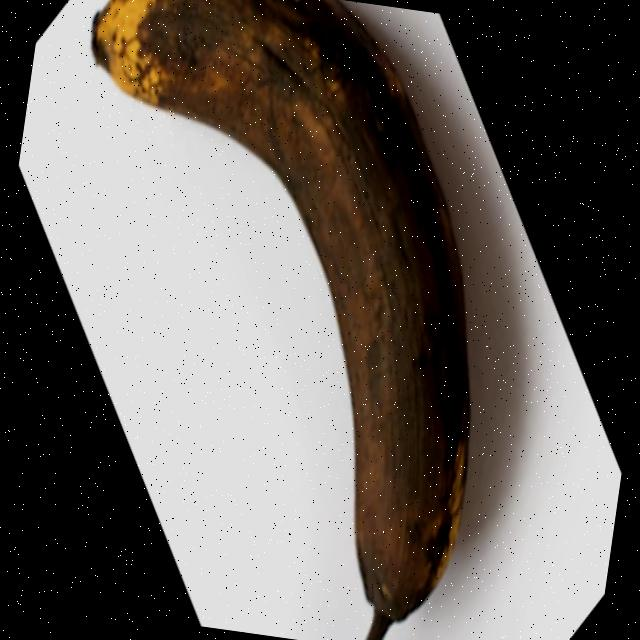Rotten: (14, 0, 531, 640)
